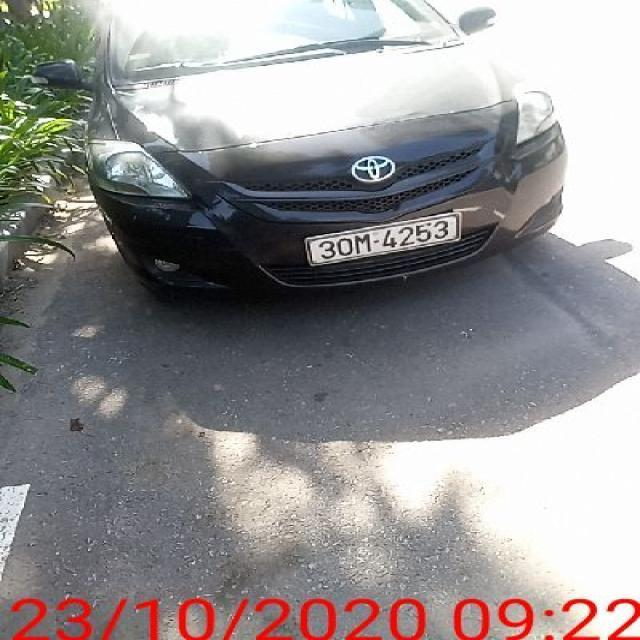bien_so_oto: (302, 206, 465, 273)
